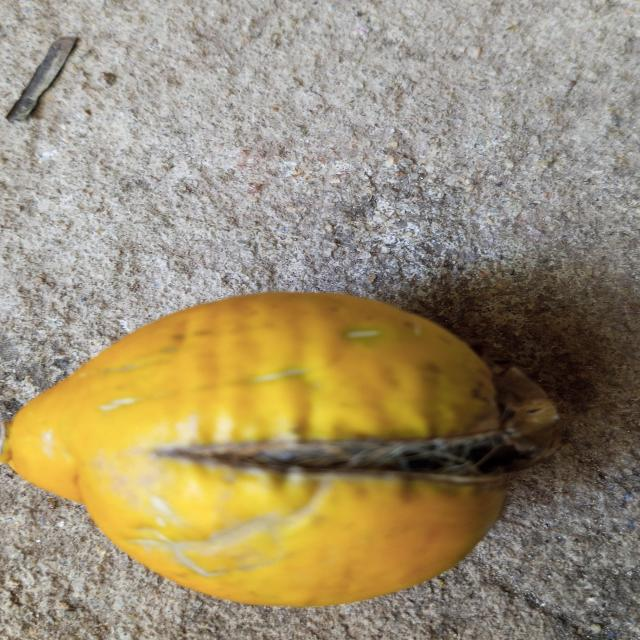damaged: (2, 293, 560, 606)
